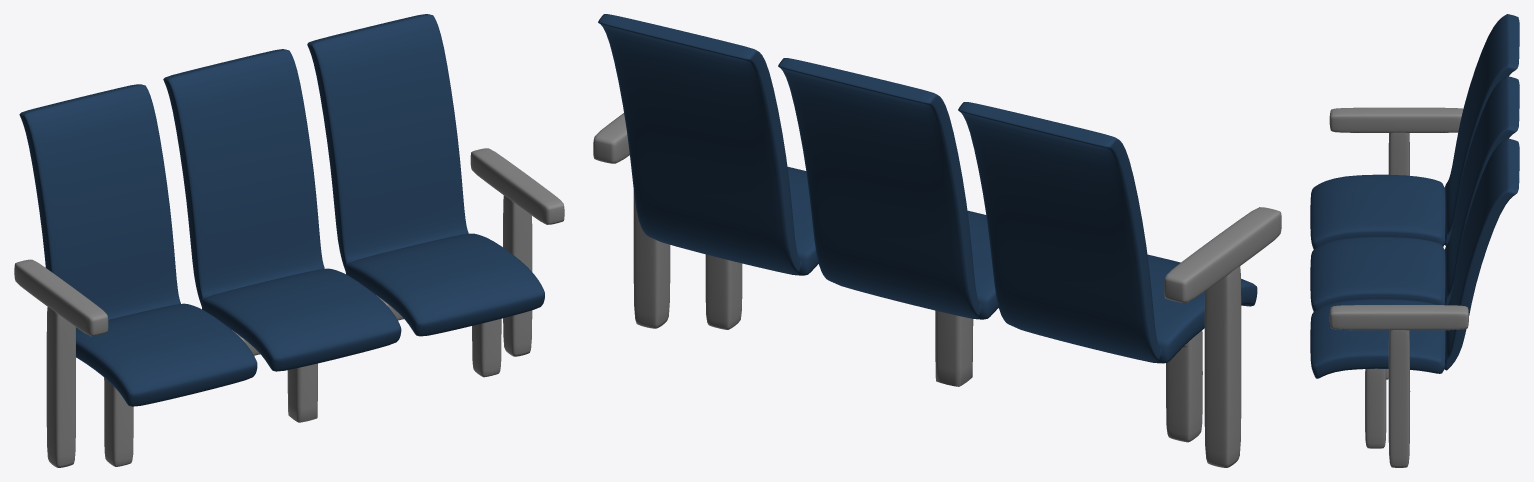
The model's file is Model_Chairs.fbx.
3 views of the same model, side by side, from view 1: azimuth 30°, elevation 25°; view 2: azimuth 150°, elevation 25°; view 3: azimuth 270°, elevation 25° (orthographic). The views are drawn at different scales.
Parts seen in each view (by area): view 1: pCube18; view 2: pCube18; view 3: pCube18.
Part boxes in pixels (bbox=[...]): pCube18: bbox=[14, 14, 564, 467]; pCube18: bbox=[593, 14, 1281, 467]; pCube18: bbox=[1310, 14, 1519, 467].
Size of the model in its own units: 175 by 105 by 74.78.
